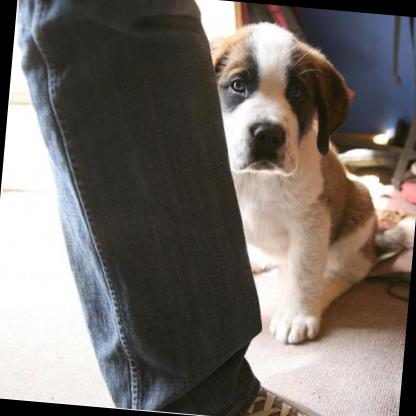Saint_Bernard: (178, 15, 416, 353)
